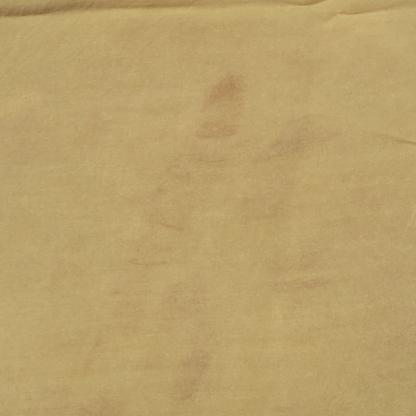spot: (191, 65, 268, 148), (162, 347, 236, 410), (248, 118, 339, 167)
